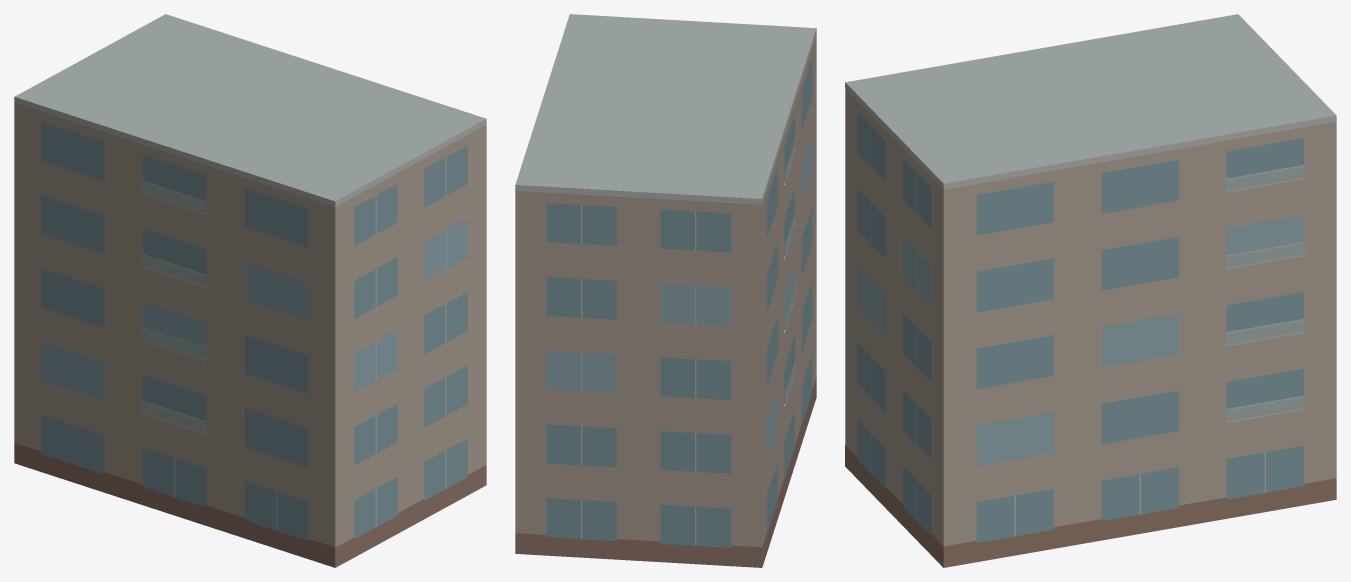
Rendered from residential-4597531d-0144-474e-add2-b7781332d6ba.glb.
3 views of the same model, side by side, from view 1: azimuth 30°, elevation 25°; view 2: azimuth 150°, elevation 25°; view 3: azimuth 270°, elevation 25° (orthographic). The views are drawn at different scales.
Visible parts, largest first — view 1: residential-4597531d-0144-474e-add2-b7781332d6ba.tmp; view 2: residential-4597531d-0144-474e-add2-b7781332d6ba.tmp; view 3: residential-4597531d-0144-474e-add2-b7781332d6ba.tmp.
Boxes of the visible parts, x1=… form: residential-4597531d-0144-474e-add2-b7781332d6ba.tmp: x1=14, y1=14, x2=486, y2=567; residential-4597531d-0144-474e-add2-b7781332d6ba.tmp: x1=515, y1=14, x2=816, y2=567; residential-4597531d-0144-474e-add2-b7781332d6ba.tmp: x1=845, y1=14, x2=1336, y2=567.
Bounding box in the file's own units: 14.45 × 15.25 × 17.69.
